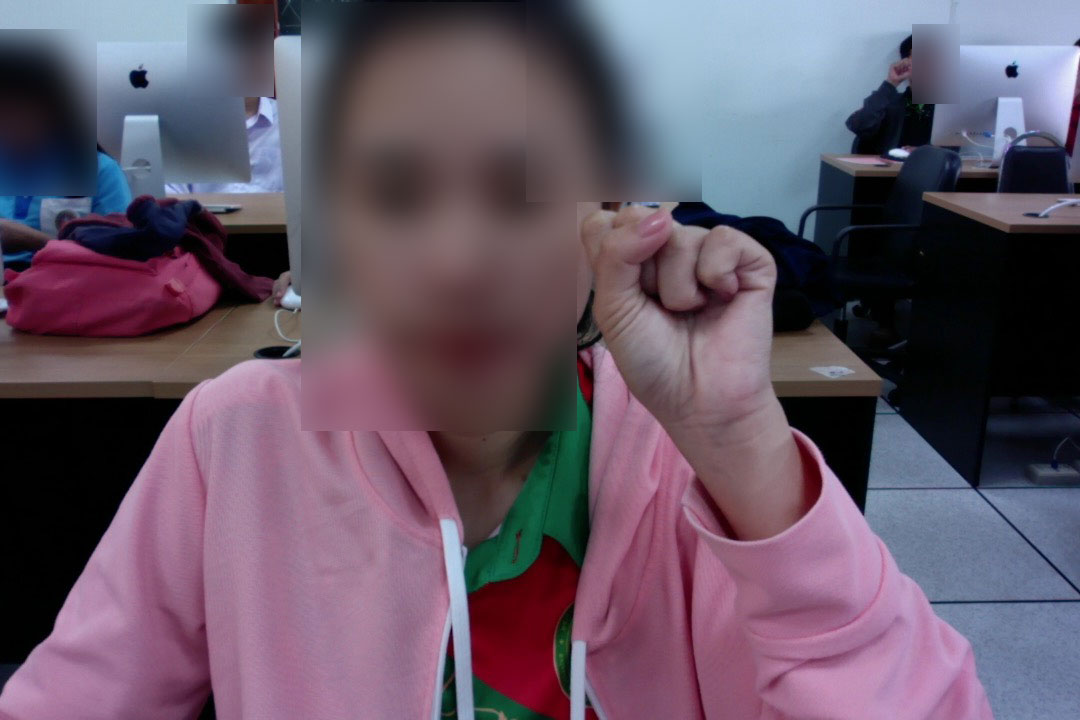sor: (573, 190, 785, 467)
